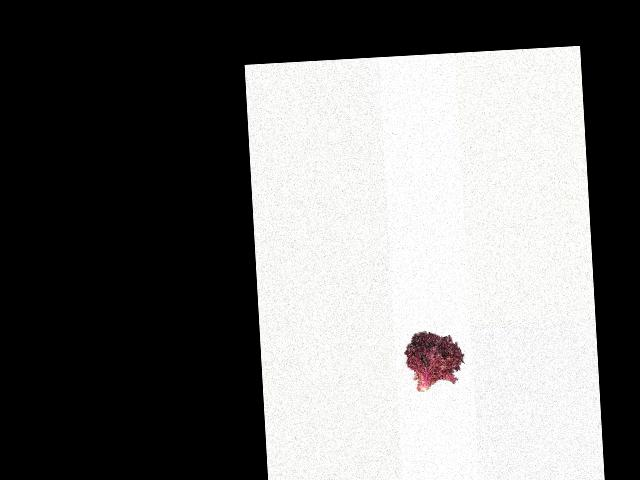lettuce: (405, 325, 467, 398)
